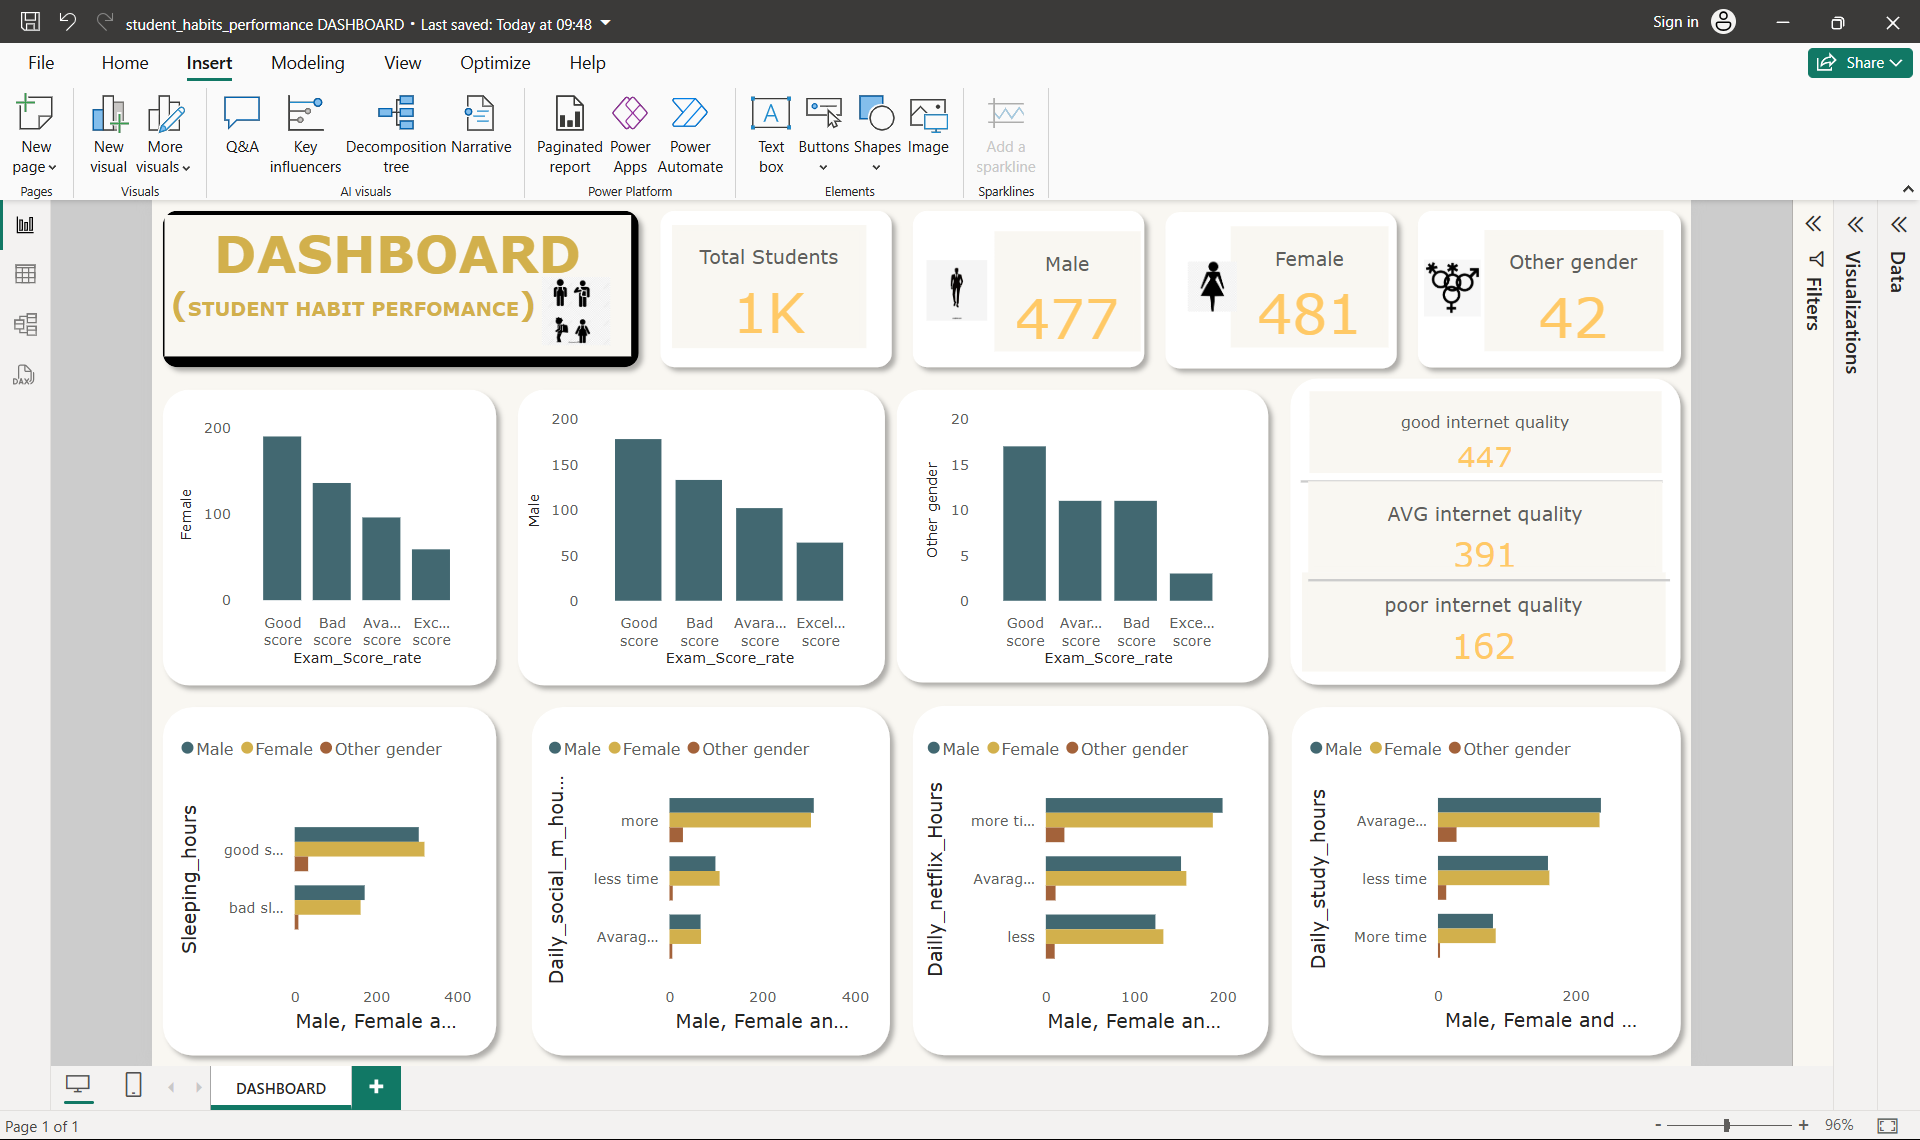

The dashboard page shown, as its layout file describes it:
{"tool":"powerbi","page":{"name":"DASHBOARD","canvas":[1280,720],"ordinal":0},"visuals":[{"type":"shape","box":[0,0,413.6,148.4],"z":0},{"type":"shape","box":[1043.1,0,236.9,148.4],"z":1000},{"type":"shape","box":[623.7,0,210.1,148.4],"z":2000},{"type":"shape","box":[833.8,1.3,210.1,148.4],"z":3000},{"type":"shape","box":[413.6,0,210.1,148.4],"z":4000},{"type":"shape","box":[610,148.6,327.4,261.9],"z":5000},{"type":"shape","box":[295.2,148.6,323.2,264],"z":6000},{"type":"shape","box":[0,148.6,295.2,264],"z":7000},{"type":"shape","box":[623.6,411.5,313.9,308.7],"z":8000},{"type":"shape","box":[306.6,412.6,315.9,307.6],"z":9000},{"type":"shape","box":[0,412.6,295.2,307.6],"z":10000},{"type":"textbox","box":[10.4,12.5,387.6,117.4],"z":11000},{"type":"cardVisual","fields":{"Data":["All Measures.Total Students"]},"box":[432,21,161.5,102.4],"z":12000},{"type":"cardVisual","fields":{"Data":["All Measures.Male"]},"box":[700.2,26.3,122,99.9],"z":13000},{"type":"cardVisual","fields":{"Data":["All Measures.Female"]},"box":[896.8,22.1,131.4,100.9],"z":14000},{"type":"cardVisual","fields":{"Data":["All Measures.Other gender"]},"box":[1107.9,24.9,148.6,100.8],"z":15000},{"type":"image","box":[856.4,20.8,50.9,101.8],"z":16000},{"type":"image","box":[639.1,26,60.3,97.7],"z":17000},{"type":"image","box":[1052.8,20.8,57.2,105],"z":18000},{"type":"shape","box":[937.5,139.2,342.7,273.1],"z":19000},{"type":"clusteredColumnChart","fields":{"Y":["All Measures.do partime jobs","All Measures.dont extracarricular"]},"box":[1017.2,452.1,239.7,215.1],"z":20000},{"type":"shape","box":[938.2,412.6,341.8,307.7],"z":21000},{"type":"columnChart","fields":{"Category":["student_habits_performance.Exam_Score_rate"],"Y":["All Measures.Female"]},"box":[18.4,176,252.1,216.7],"z":25000},{"type":"clusteredColumnChart","fields":{"Category":["student_habits_performance.Exam_Score_rate"],"Y":["All Measures.Male"]},"box":[307.6,168.4,294.1,224.5],"z":26000},{"type":"columnChart","fields":{"Category":["student_habits_performance.Exam_Score_rate"],"Y":["All Measures.Other gender"]},"box":[639.5,168.1,267.9,224.5],"z":27000},{"type":"clusteredBarChart","fields":{"Category":["student_habits_performance.Sleeping_hours"],"Y":["All Measures.Male","All Measures.Female","All Measures.Other gender"]},"box":[18.7,435.5,252.5,260.9],"z":28000},{"type":"clusteredBarChart","fields":{"Category":["student_habits_performance.Daily_social_m_hours"],"Y":["All Measures.Male","All Measures.Female","All Measures.Other gender"]},"box":[324.3,435.5,277.5,260.9],"z":29000},{"type":"clusteredBarChart","fields":{"Category":["student_habits_performance.Dailly_netflix_Hours"],"Y":["All Measures.Male","All Measures.Female","All Measures.Other gender"]},"box":[639.1,435.5,268.1,260.9],"z":30000},{"type":"clusteredBarChart","fields":{"Category":["student_habits_performance.Daily_study_hours"],"Y":["All Measures.Male","All Measures.Female","All Measures.Other gender"]},"box":[957.2,435.9,300.7,260],"z":31000},{"type":"image","box":[306.6,59.2,91.5,66.5],"z":34000},{"type":"clusteredBarChart","fields":{"Category":["student_habits_performance.Exam_Score_rate"],"Y":["All Measures.dont partime jobs","All Measures.dont extracarricular","All Measures.do extracarricular","All Measures.do partime jobs"]},"box":[957,158.1,309.3,233.7],"z":34001}]}

Visuals, with their boxes on the page's 1280x720 design canvas (x1, y1, x2, y2). These are canvas units, not pixel positions in the 1920x1140 screenshot, which may show the page scaled, cropped or inside an application window:
shape: 0:0:414:148
shape: 1043:0:1280:148
shape: 624:0:834:148
shape: 834:1:1044:150
shape: 414:0:624:148
shape: 610:149:937:410
shape: 295:149:618:413
shape: 0:149:295:413
shape: 624:412:938:720
shape: 307:413:622:720
shape: 0:413:295:720
textbox: 10:12:398:130
cardVisual - All Measures.Total Students: 432:21:594:123
cardVisual - All Measures.Male: 700:26:822:126
cardVisual - All Measures.Female: 897:22:1028:123
cardVisual - All Measures.Other gender: 1108:25:1256:126
image: 856:21:907:123
image: 639:26:699:124
image: 1053:21:1110:126
shape: 938:139:1280:412
clusteredColumnChart - All Measures.do partime jobs x All Measures.dont extracarricular: 1017:452:1257:667
shape: 938:413:1280:720
columnChart - student_habits_performance.Exam_Score_rate x All Measures.Female: 18:176:270:393
clusteredColumnChart - student_habits_performance.Exam_Score_rate x All Measures.Male: 308:168:602:393
columnChart - student_habits_performance.Exam_Score_rate x All Measures.Other gender: 640:168:907:393
clusteredBarChart - student_habits_performance.Sleeping_hours x All Measures.Male: 19:436:271:696
clusteredBarChart - student_habits_performance.Daily_social_m_hours x All Measures.Male: 324:436:602:696
clusteredBarChart - student_habits_performance.Dailly_netflix_Hours x All Measures.Male: 639:436:907:696
clusteredBarChart - student_habits_performance.Daily_study_hours x All Measures.Male: 957:436:1258:696
image: 307:59:398:126
clusteredBarChart - student_habits_performance.Exam_Score_rate x All Measures.dont partime jobs: 957:158:1266:392
